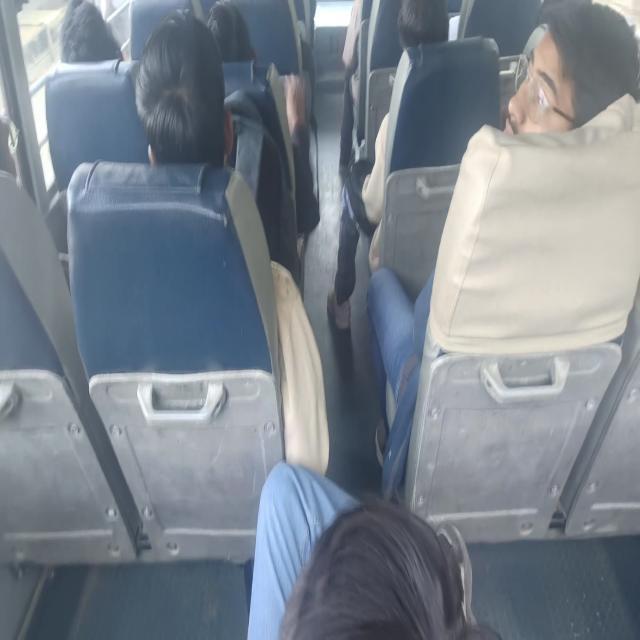person: (365, 0, 639, 491), (134, 8, 320, 292), (246, 459, 500, 639), (326, 0, 449, 331), (204, 0, 320, 237), (503, 0, 639, 136), (134, 9, 233, 167), (58, 0, 124, 63)
